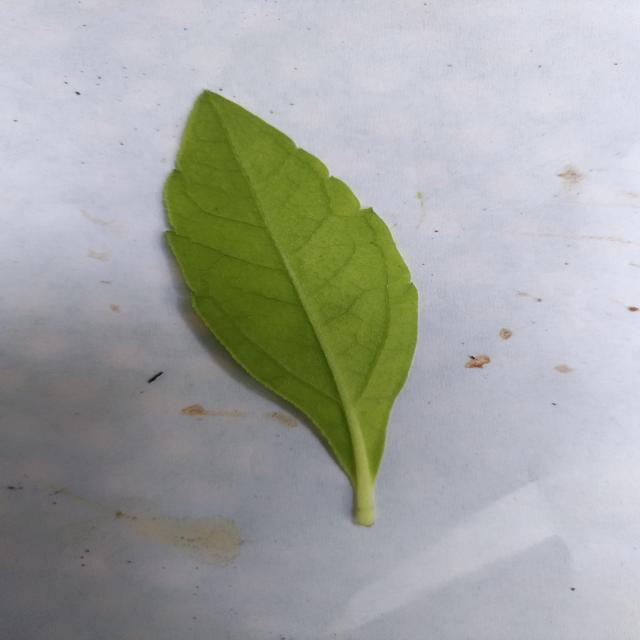bringaraja: (164, 91, 418, 405)
